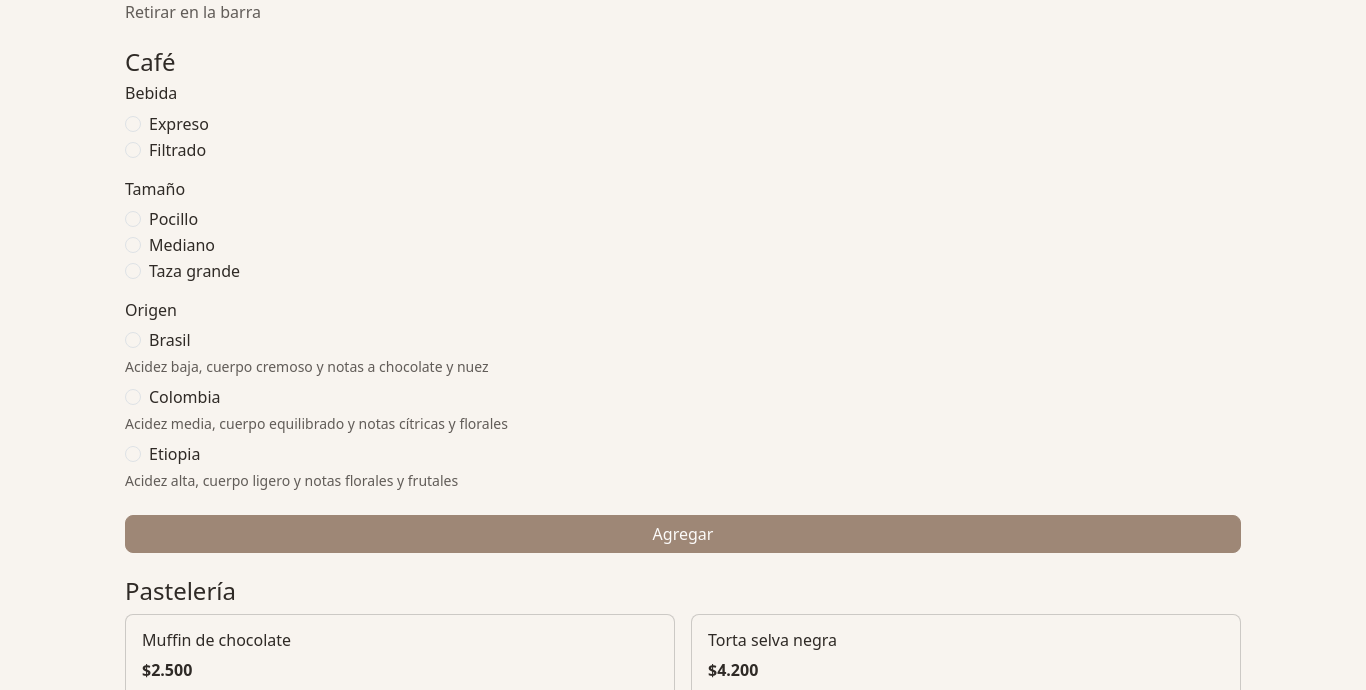
it: Confirmar pedido › muestra el error de la API y conserva el carrito
Click the radio button labelled "Expreso": (133, 124) [125,116,141,132]
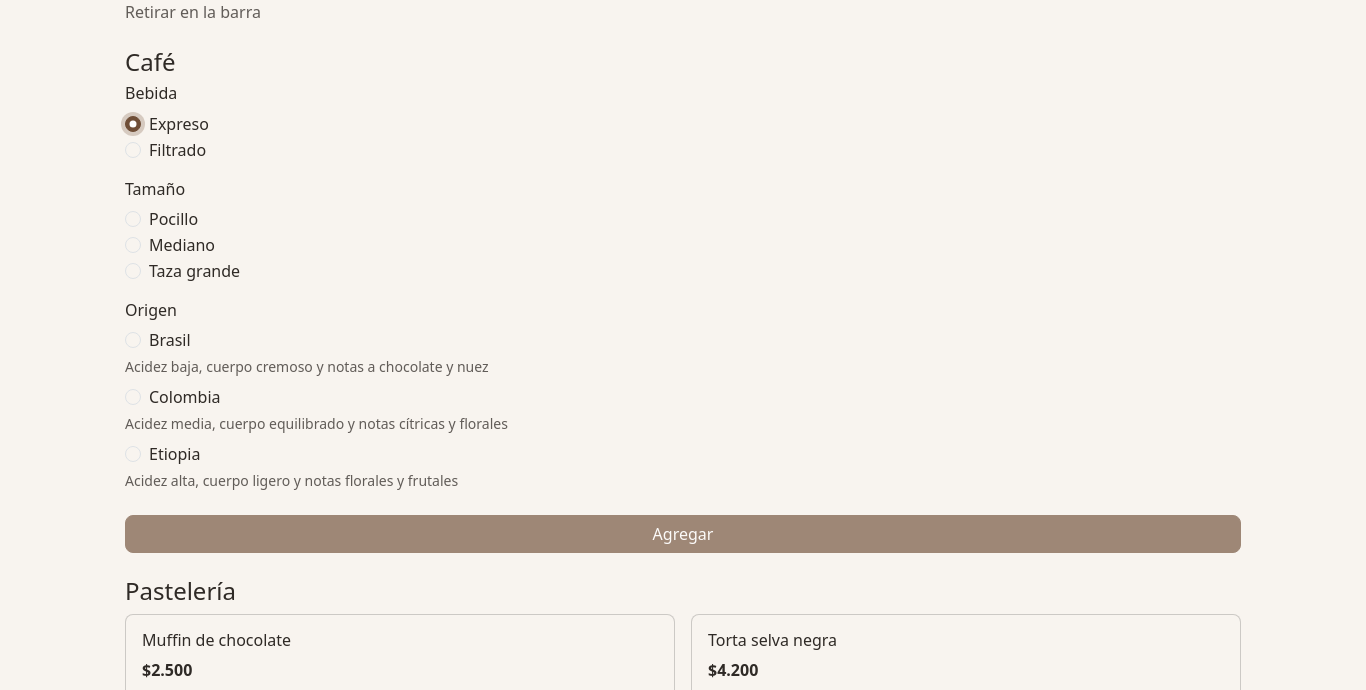
Click the radio button labelled "Mediano": (133, 245) [125,237,141,253]
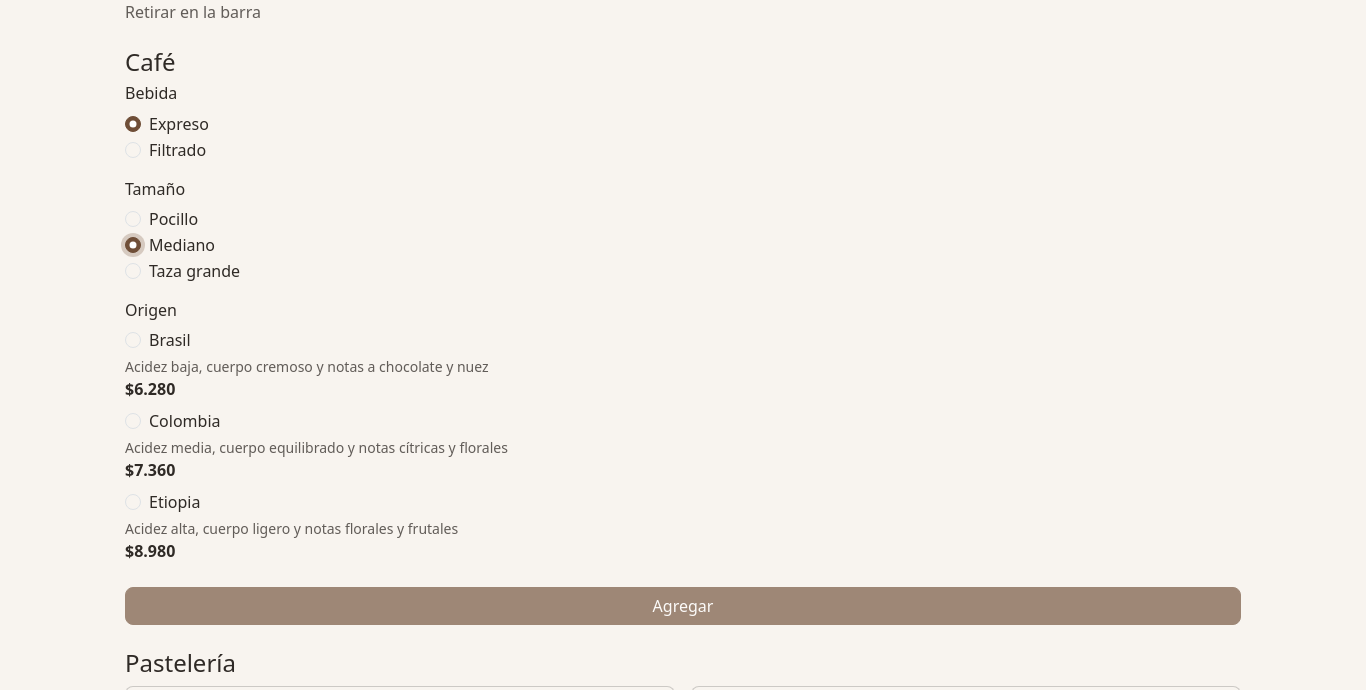
Click the radio button labelled "Colombia": (133, 421) [125,413,141,429]
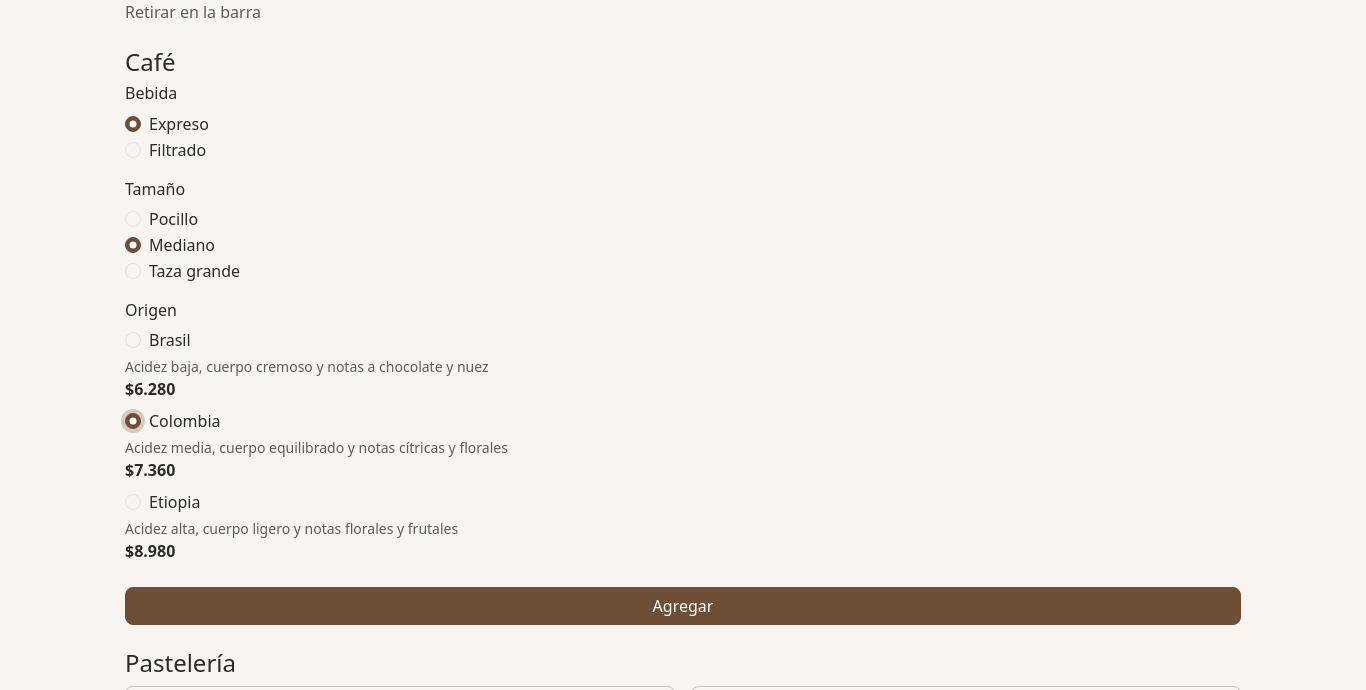
Click the button "Agregar": (683, 606) [125,587,1241,625]
(page scrolled)
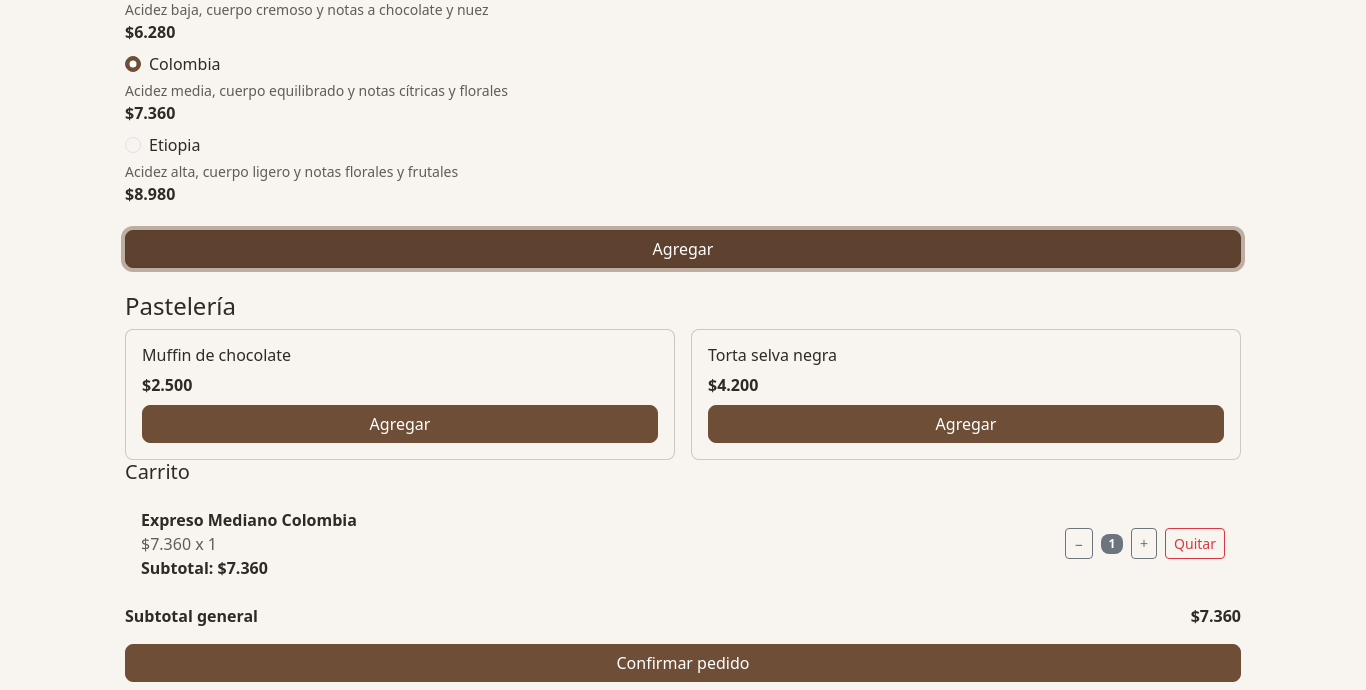
Click the button "Confirmar pedido": (683, 663) [125,644,1241,682]
(page scrolled)
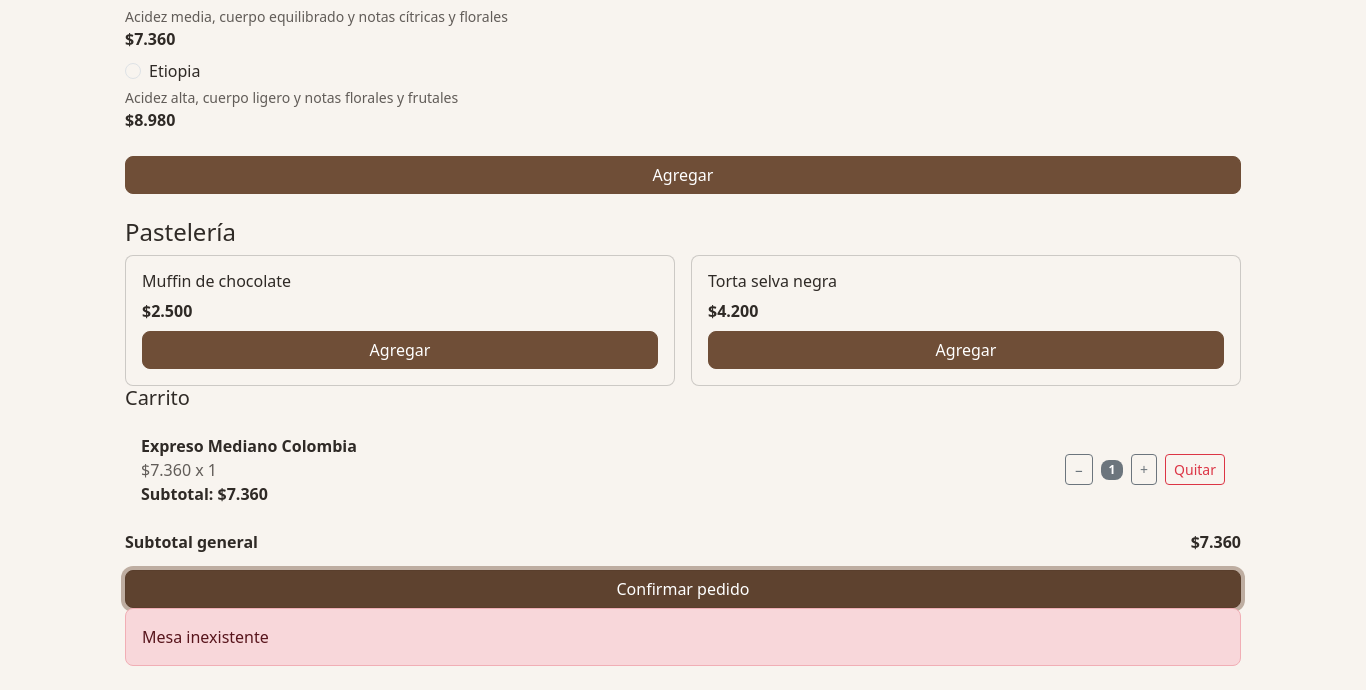
Result: the text "Mesa inexistente" is shown at [125,608,1241,666]
